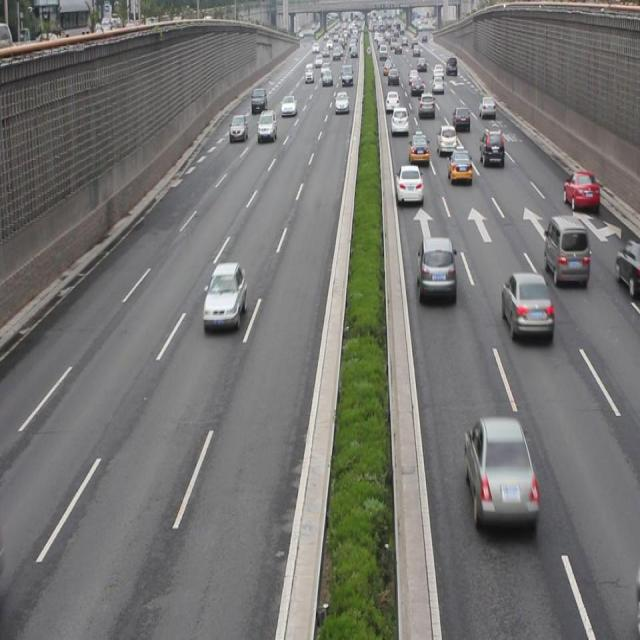car: (462, 416, 537, 530), (502, 271, 552, 341), (204, 260, 247, 330), (417, 237, 456, 300), (613, 238, 640, 299), (562, 168, 598, 212), (395, 163, 422, 206), (478, 126, 503, 167), (447, 146, 471, 182), (435, 123, 457, 158), (408, 132, 430, 164), (256, 108, 274, 142), (389, 106, 409, 135), (452, 104, 471, 133), (229, 113, 247, 143)
truck: (544, 213, 587, 285)
